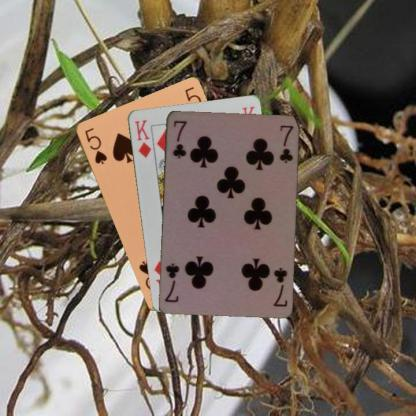5s: (82, 125, 108, 166)
7c: (168, 117, 188, 160), (270, 264, 288, 308)
Kd: (132, 117, 152, 159)
